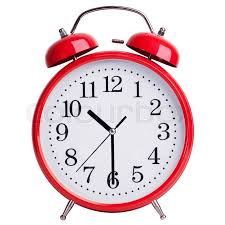alarm_clock: (29, 1, 193, 220)
